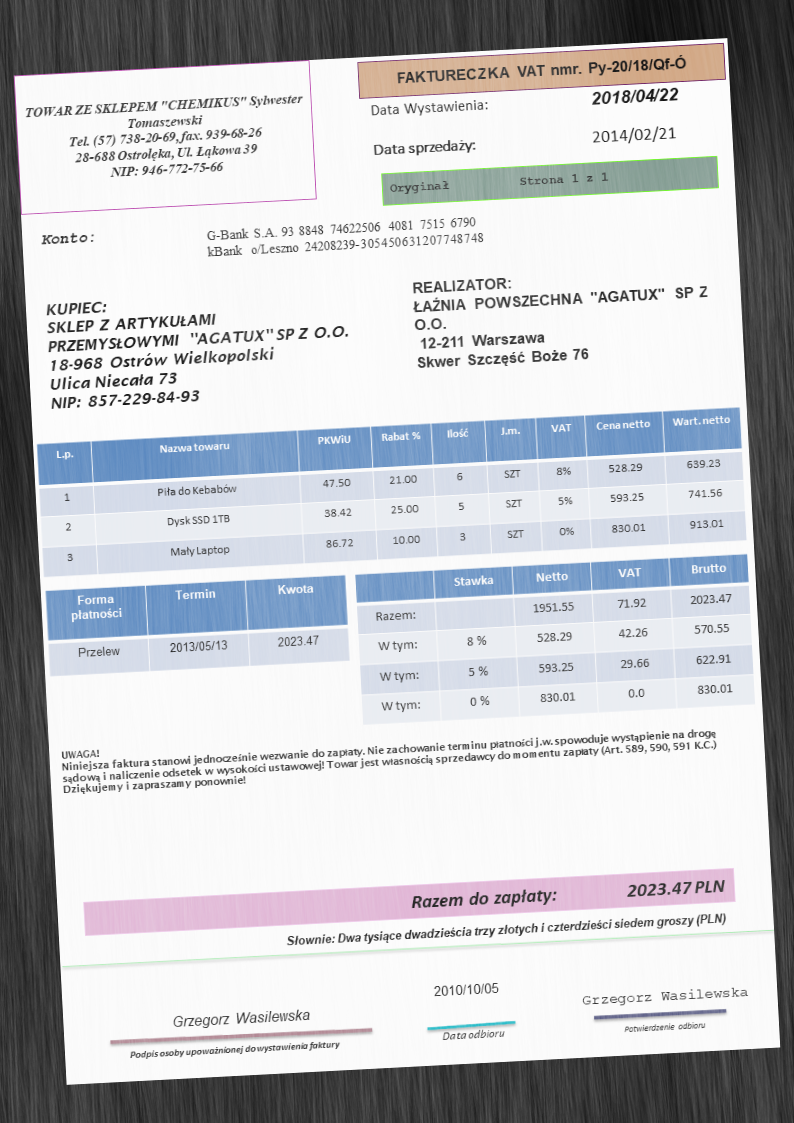Table: (35, 406, 748, 578), (353, 552, 757, 725), (44, 575, 350, 678)
TextBox: (58, 712, 720, 799), (41, 284, 356, 414), (409, 263, 714, 374), (21, 87, 308, 187), (283, 907, 733, 952), (201, 211, 486, 263), (405, 871, 729, 916), (391, 52, 688, 86), (388, 167, 610, 197), (125, 1034, 343, 1063), (577, 982, 750, 1009), (169, 1002, 313, 1032), (368, 95, 490, 120), (370, 134, 478, 160), (586, 82, 681, 110), (589, 122, 680, 149), (620, 1016, 709, 1038), (429, 977, 501, 1001), (439, 1024, 508, 1042), (37, 227, 96, 248)
